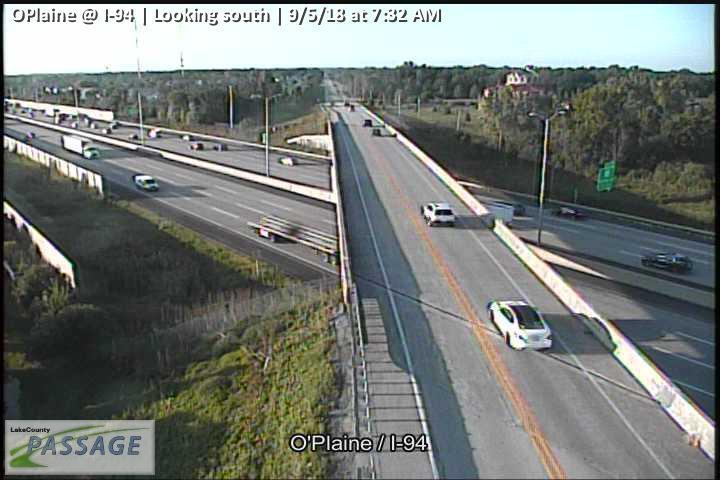SUV: (487, 298, 552, 351), (421, 201, 457, 226)
Sedan: (640, 250, 693, 273), (552, 203, 584, 220), (133, 175, 159, 192)
Truck: (59, 133, 100, 159)
